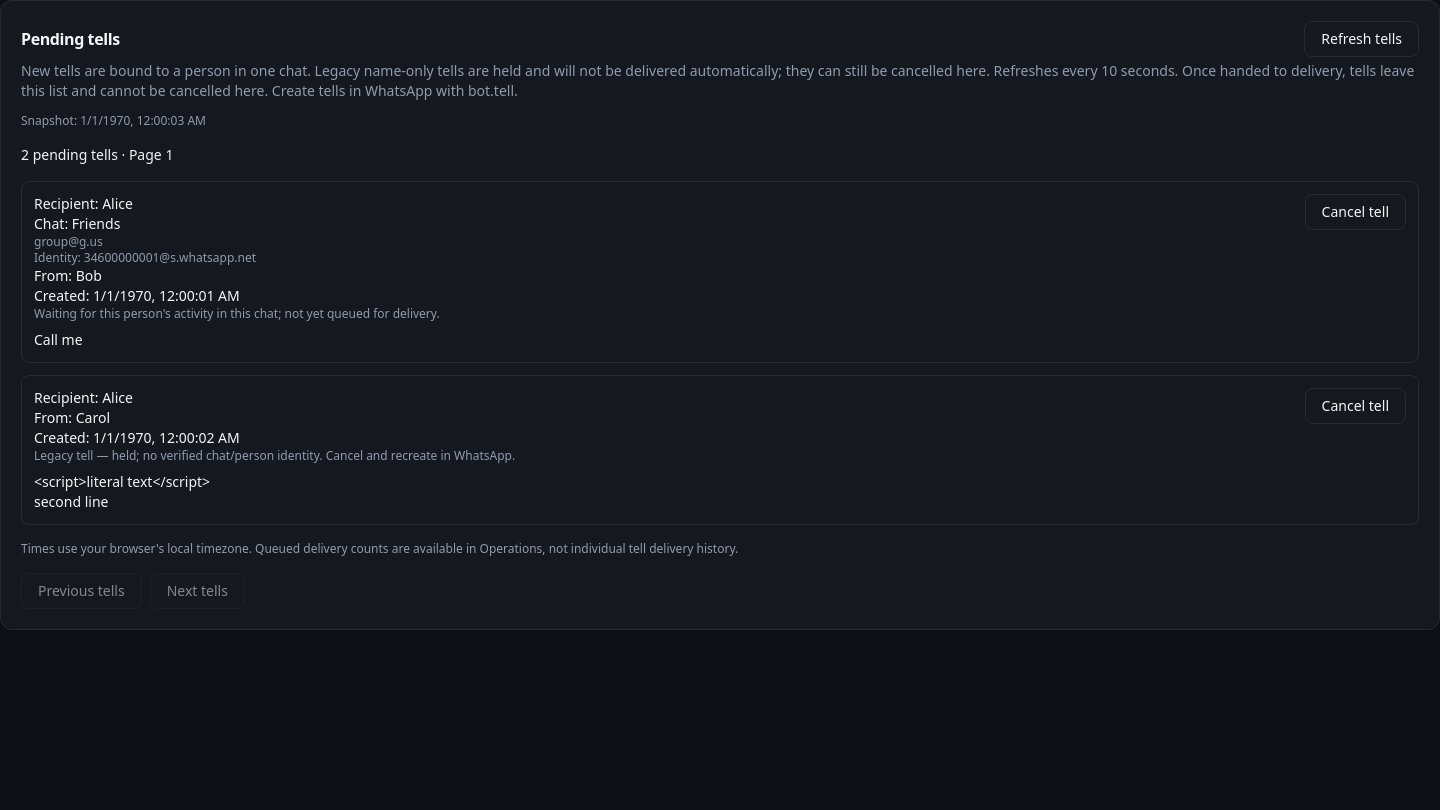
Test: pending tells › keeps confirmed cancellations removed even when the subsequent refresh fails
Expected: the text "Call me" is shown, [34,330,83,349]
Click the button with aria-label "Cancel tell 1".
click(1355, 212)  # box [1305,194,1406,230]
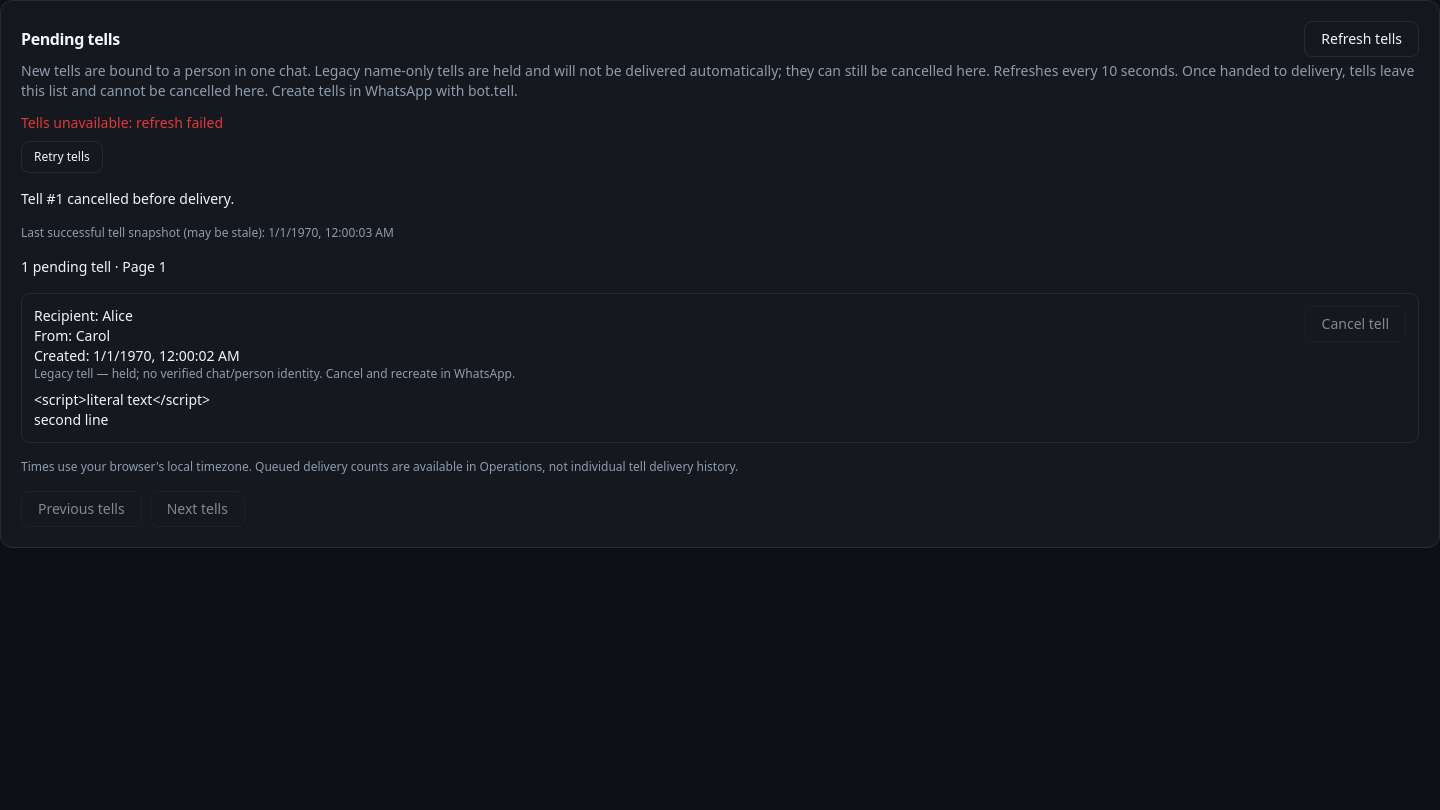
Expected: the text "Tell #1 cancelled before delivery." is shown, [21,189,234,208]
Expected: the message "Tells unavailable: refresh failed" is shown, [21,113,223,132]
Expected: the text "Call me" is gone
